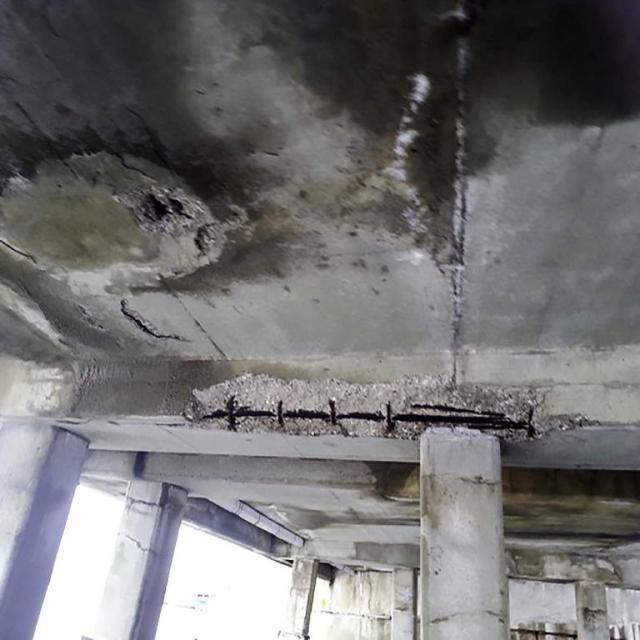spalling: (192, 368, 639, 448), (446, 5, 470, 380), (117, 296, 198, 346), (122, 188, 200, 233), (194, 210, 251, 257)
